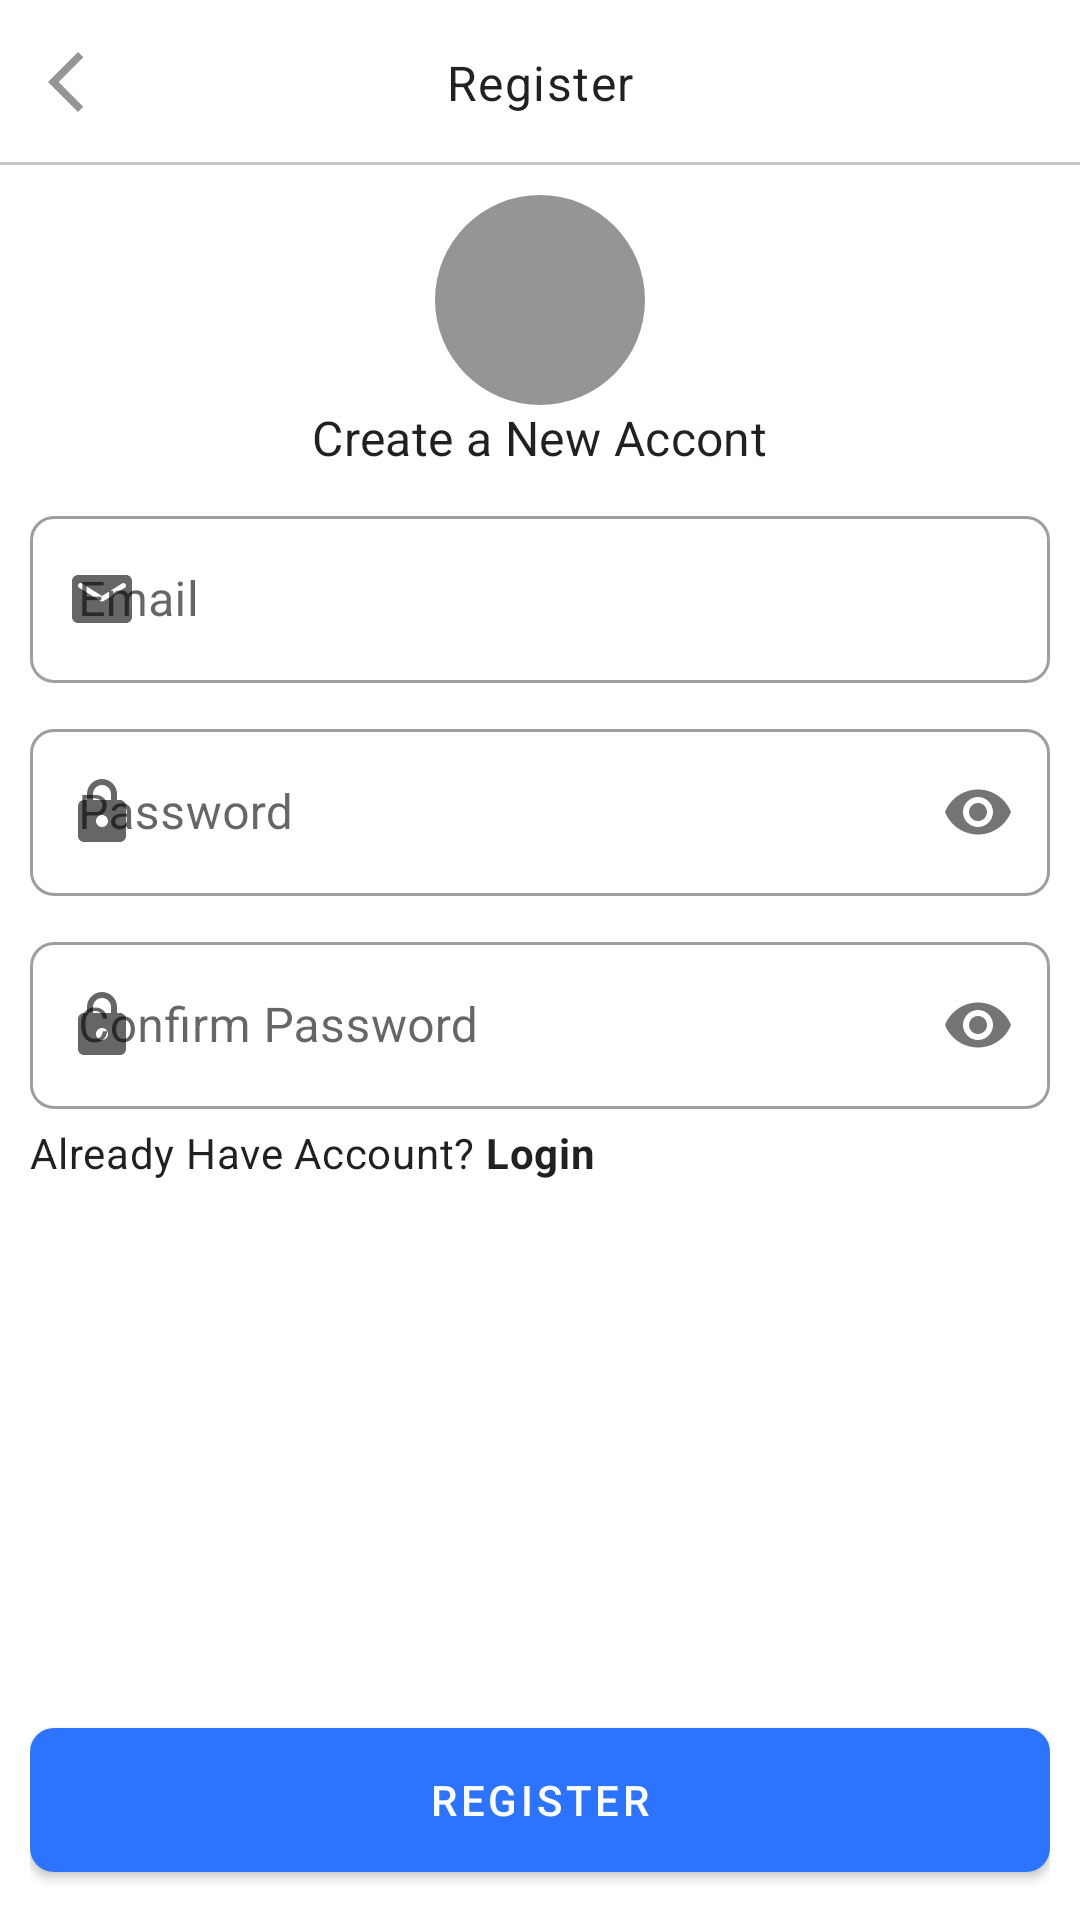

Icons on this 1080px×1920px Android screen, each with its box as box=[x1, y1, x2, y2]:
back: box=[48, 52, 83, 112]
